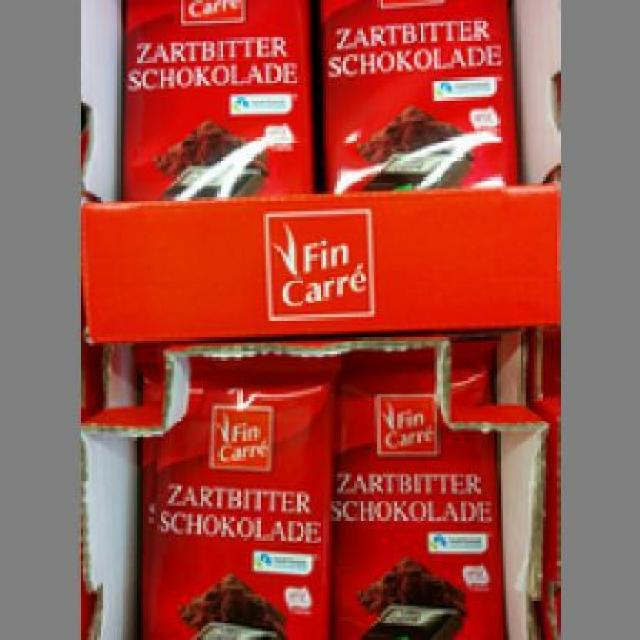Chocolate bar: (131, 343, 340, 637), (326, 337, 497, 637), (307, 2, 524, 190), (118, 1, 316, 192)
